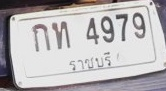txt01: (29, 23, 51, 53)
txt18: (50, 20, 71, 50)
